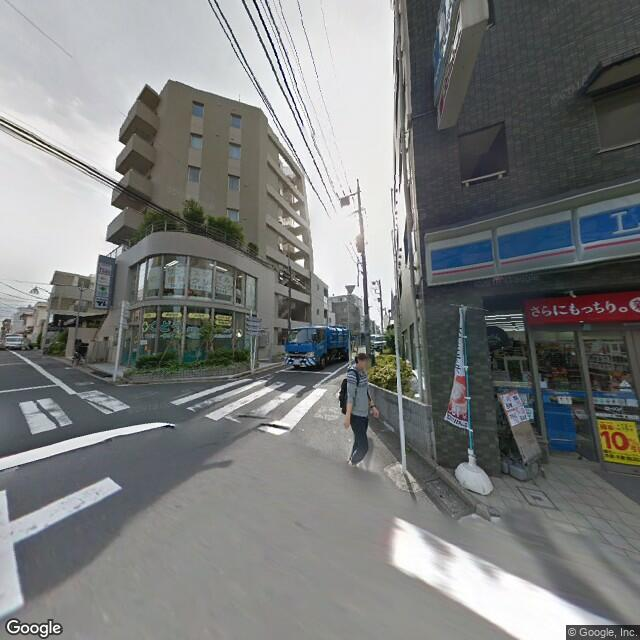lawson: (427, 188, 638, 284)
